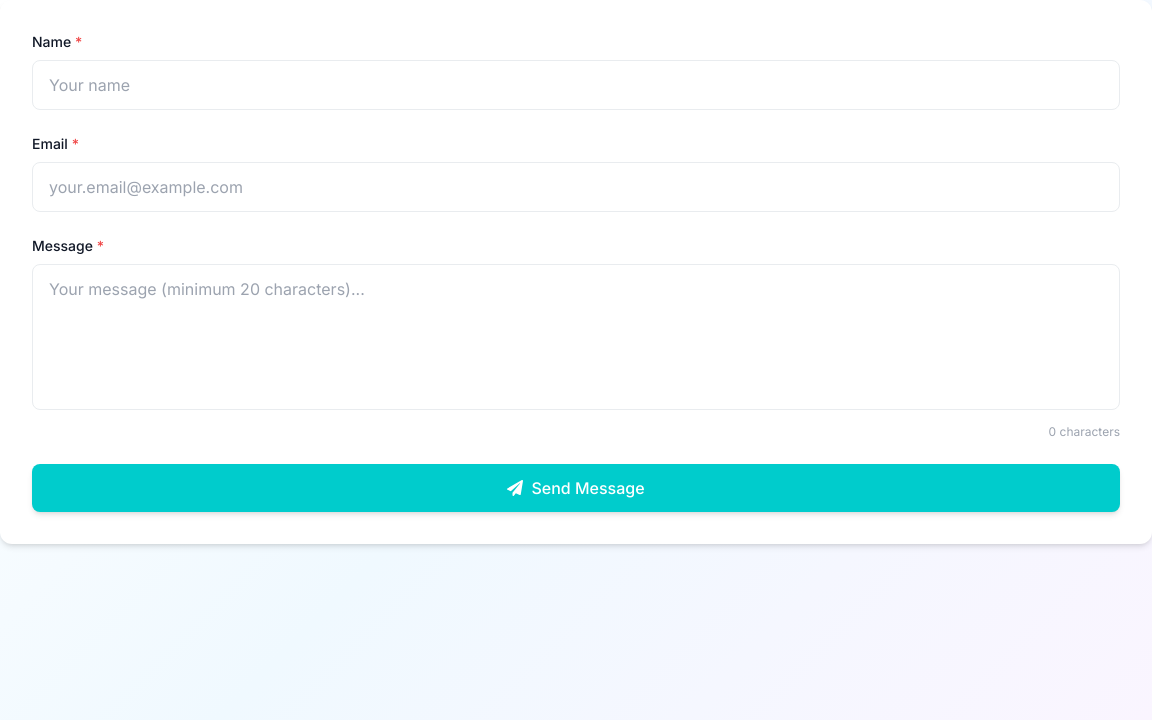
Scenario: ContactForm › shows validation error for empty name field
Click the field labelled "Name *" at (576, 85), box [32,60,1120,110]
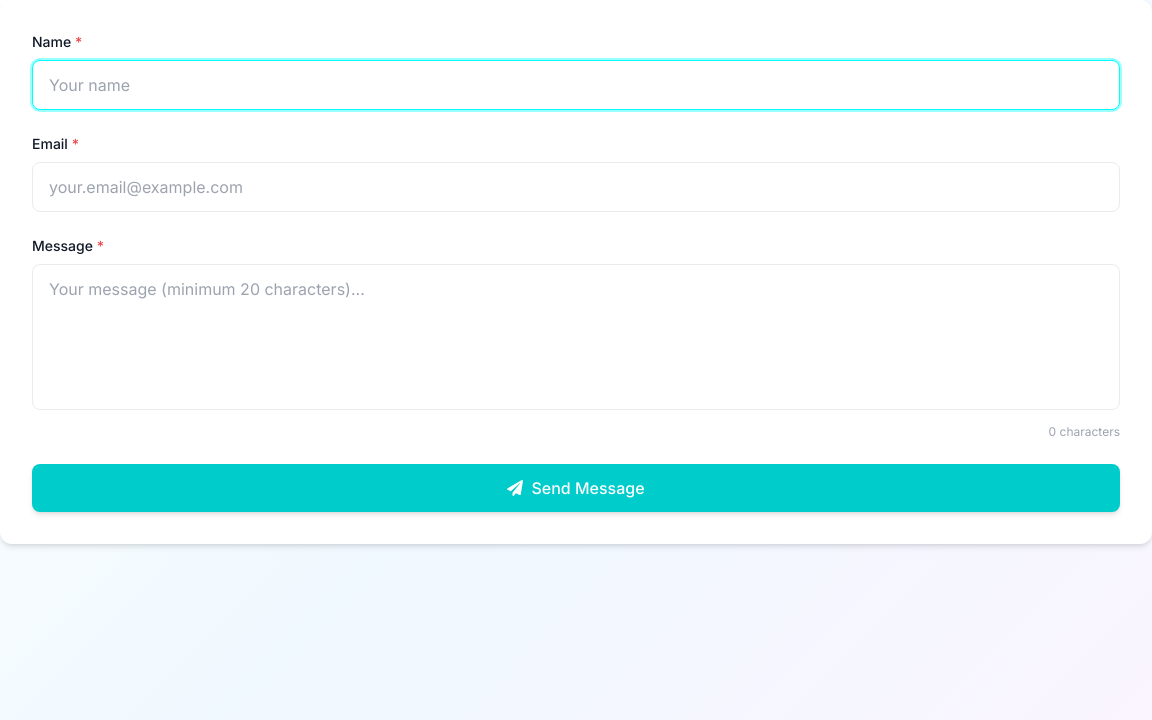
Press Tab
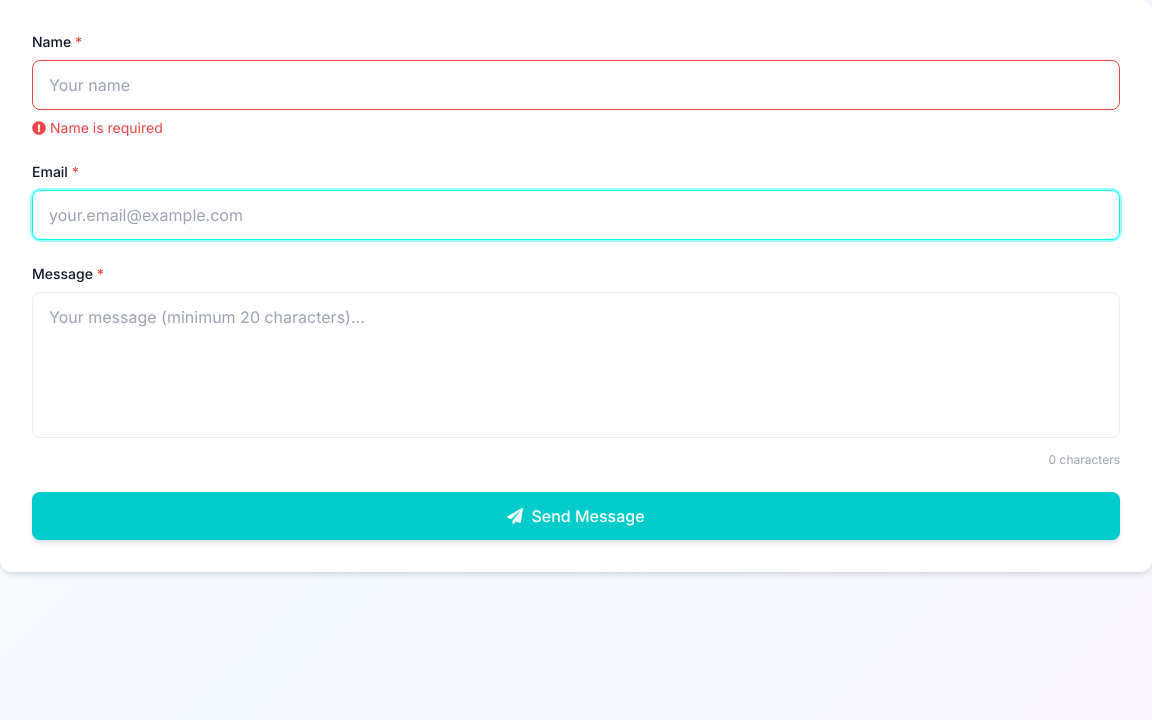
Now the text "Name is required" is shown, box [32,119,163,136]
